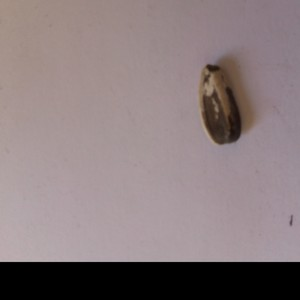girasol: (192, 62, 246, 149)
